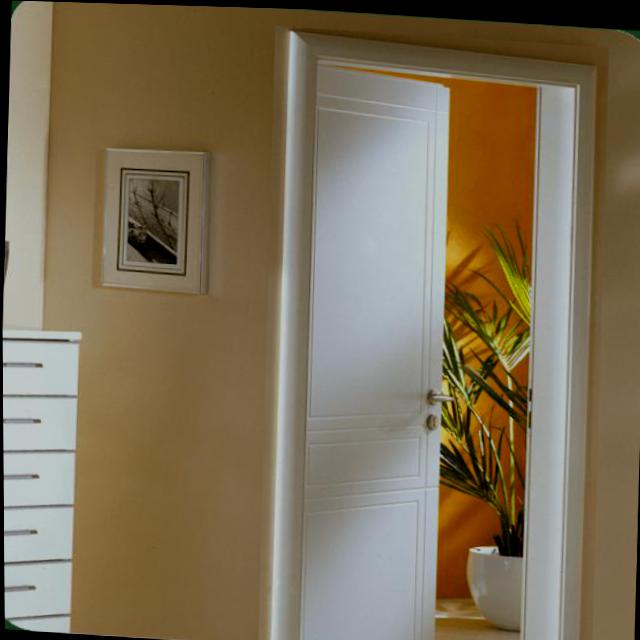semi-open: (252, 22, 614, 639)
